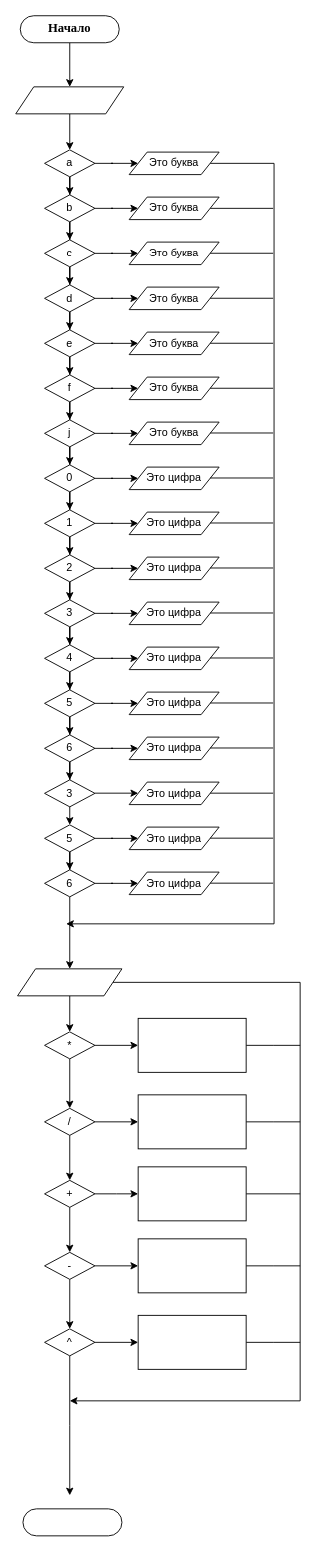
Some shapes in this 323 by 1552 pixel diagram are drawn without their labels. Each missing label, with the centre of its shape:
"ch ,x, y" goes at point (69, 982).
"char c" goes at point (69, 100).
"Конец" goes at point (72, 1522).
